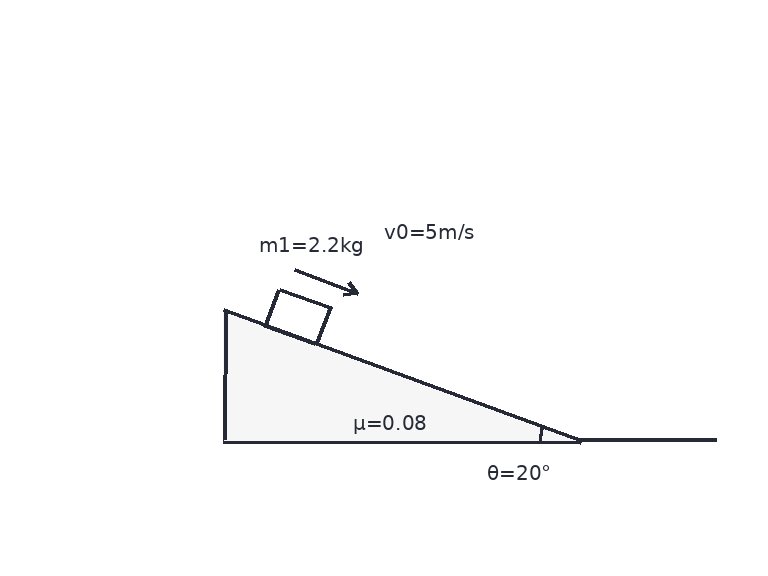block: (264, 287, 331, 346)
ramp: (222, 308, 582, 442)
